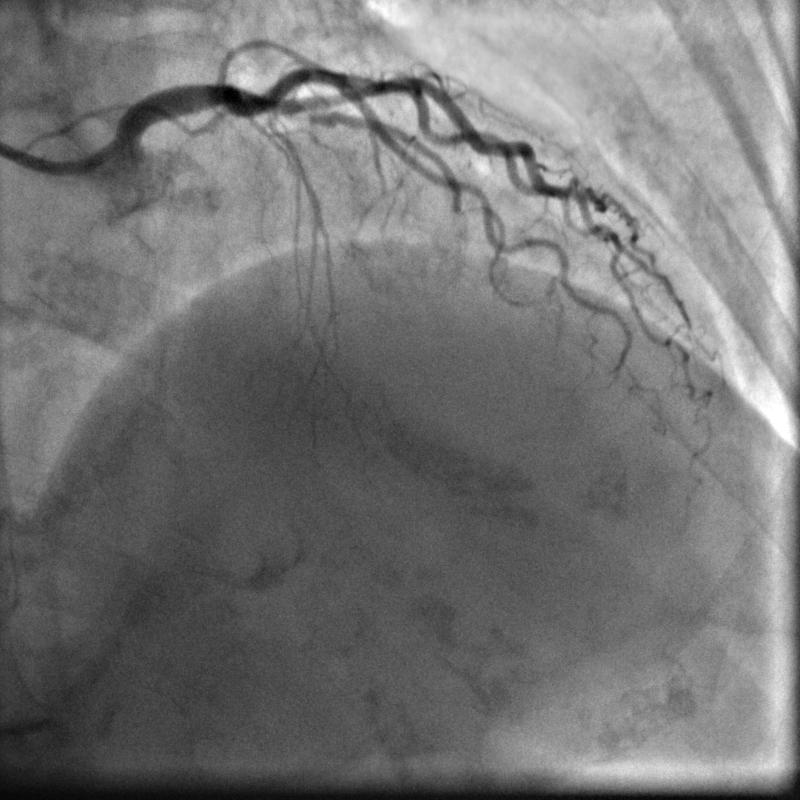Stenosis: (305, 108, 338, 125)
